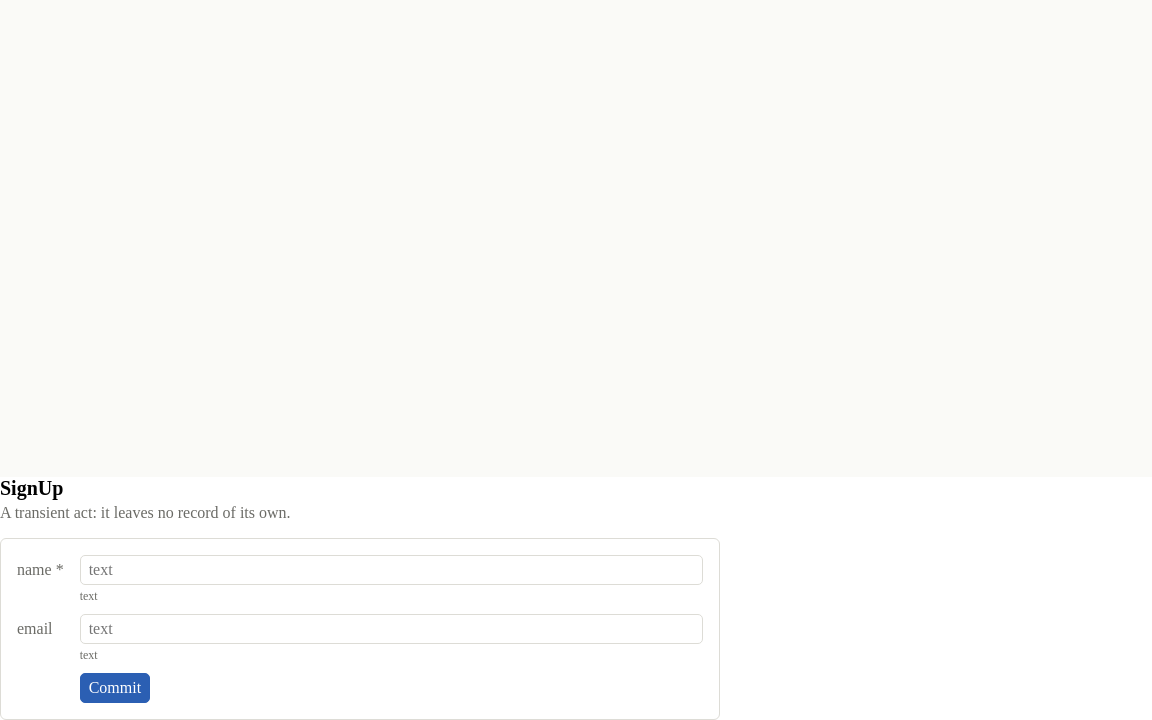
Scenario: an act's form › shows a refusal with the rejection's message, and a transient act as accepted with no record
Later steps or results of the test are not shown.
(page scrolled)
Click the button "Commit": (115, 688) [80,673,150,703]
(page scrolled)
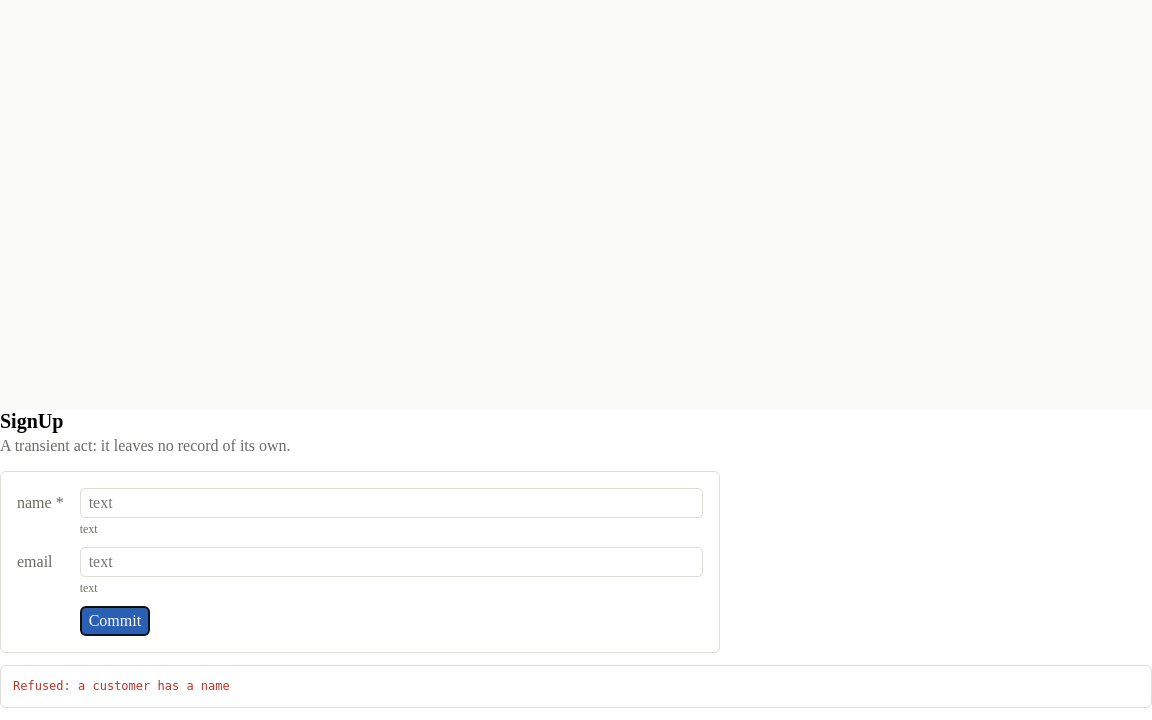
Expected: the text "Refused: a customer has a name" is shown, [0,665,1151,708]
